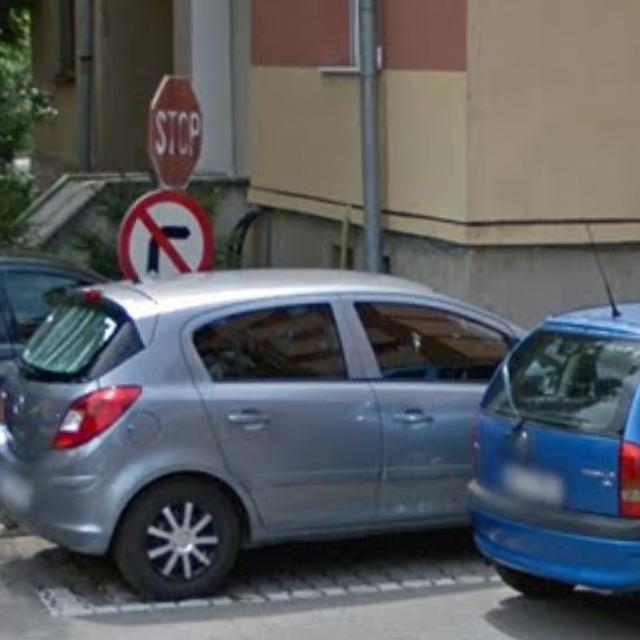prio_stop: (148, 73, 204, 189)
